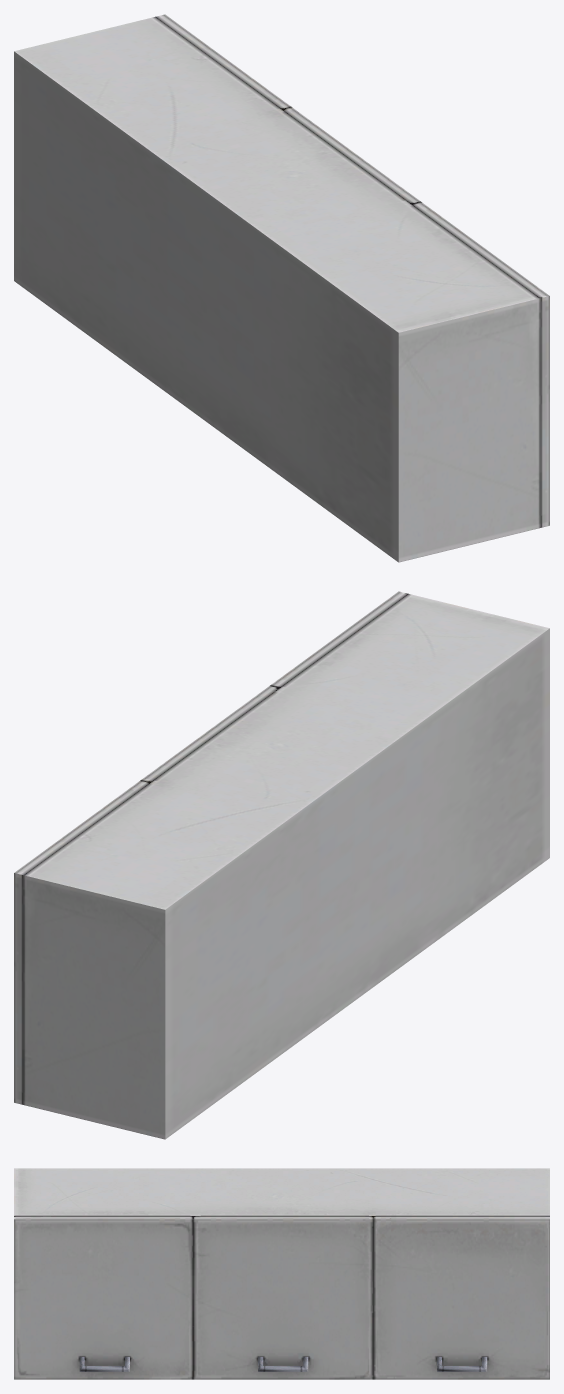
Rendered from Kitchen09.FBX.
3 renders of one model, top to bottom at view 1: azimuth 30°, elevation 25°; view 2: azimuth 150°, elevation 25°; view 3: azimuth 270°, elevation 25°, orthographic. The views are drawn at different scales.
Visible parts, largest first — view 1: Kitchen09; view 2: Kitchen09; view 3: Kitchen09.
Boxes of the visible parts, x1,y1,x2,y2 form: Kitchen09: (14, 14, 549, 562); Kitchen09: (14, 591, 549, 1139); Kitchen09: (14, 1168, 549, 1379).
Size of the model in its own units: 0.4968 by 0.659 by 2.
